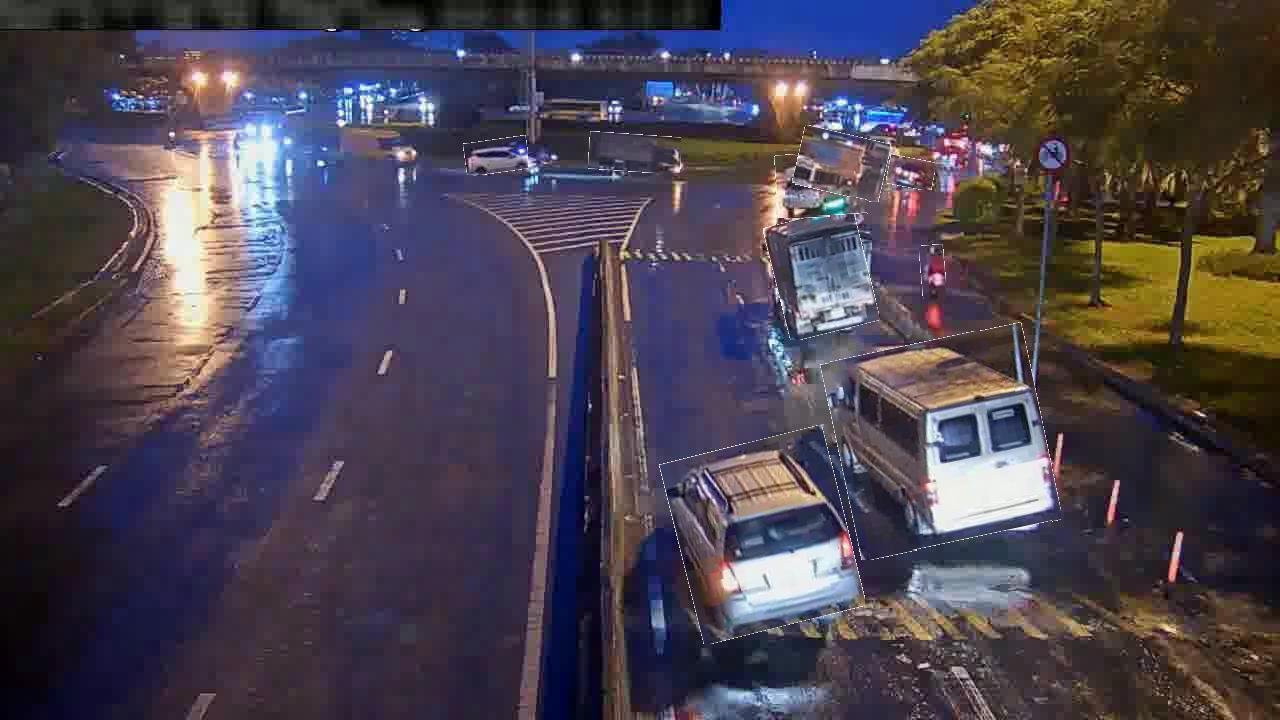14: (830, 332, 1053, 552)
8: (770, 211, 874, 337), (795, 130, 889, 198), (775, 152, 868, 218), (588, 133, 682, 173)
container: (669, 434, 856, 637), (464, 137, 529, 174), (887, 156, 935, 189)
motorbike: (920, 245, 946, 300)
